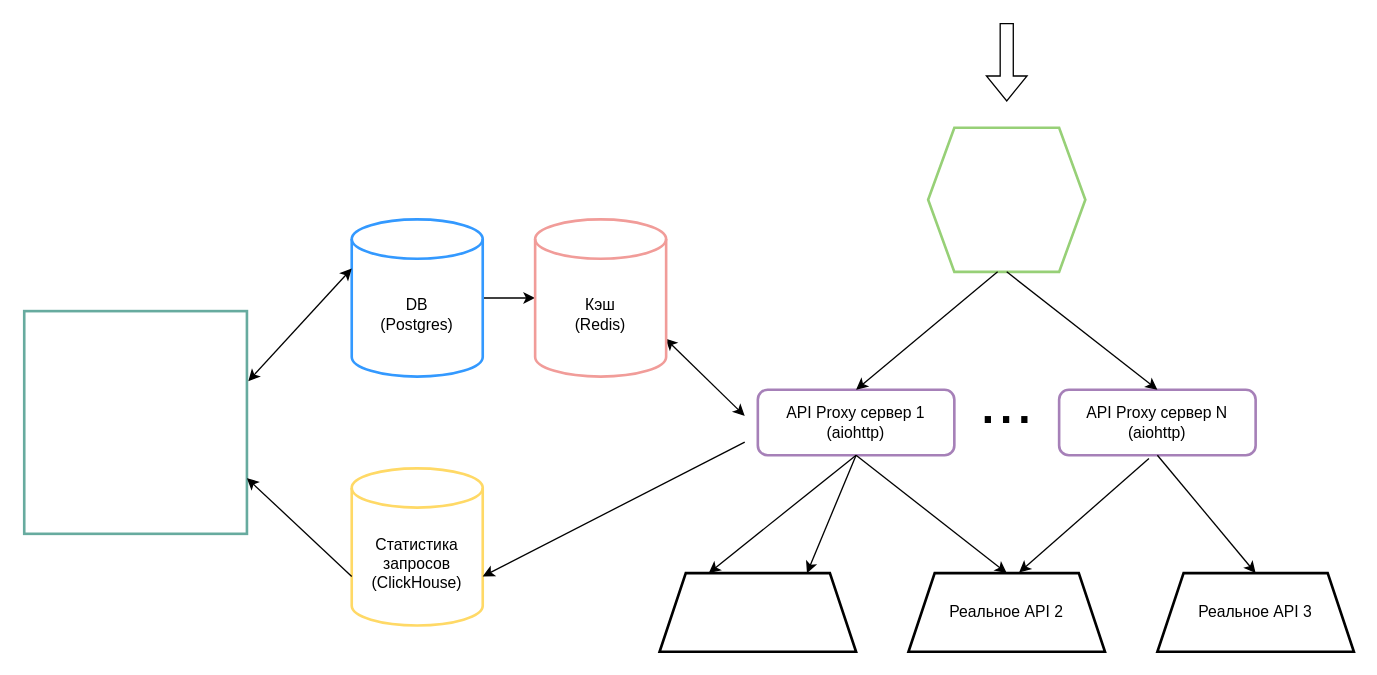
Image size: 1377x675. Some labels were removed from this diagram. Each missing label, with the centre of its shape:
"Балансировщик (Nginx)" belongs at point (1006, 199).
"Личный кабинет (Django)" belongs at point (135, 421).
"Реальное API 1" belongs at point (757, 611).
